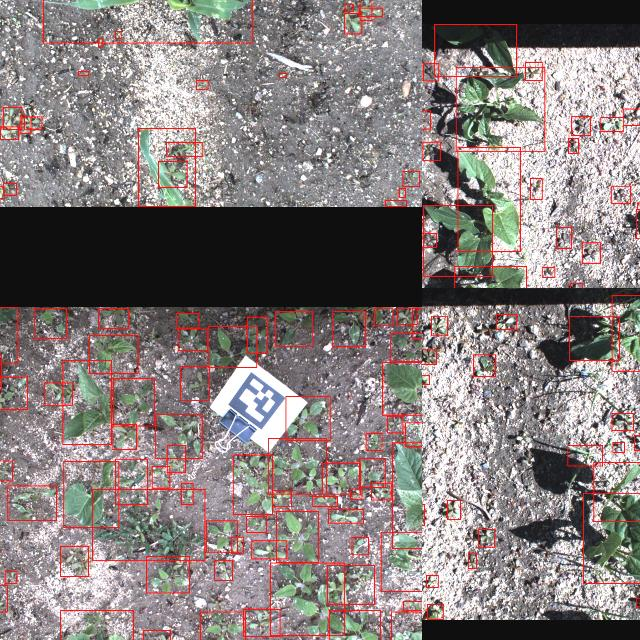crop: (42, 0, 251, 42), (456, 67, 544, 151), (457, 146, 519, 252), (582, 492, 640, 583), (422, 206, 492, 276), (138, 129, 195, 207), (434, 24, 516, 76), (61, 360, 110, 444), (64, 461, 118, 527), (391, 442, 422, 548), (380, 532, 422, 592), (611, 295, 640, 371), (569, 316, 619, 360), (381, 361, 422, 414), (89, 335, 138, 373), (454, 267, 526, 288), (391, 612, 422, 640)
weed: (92, 490, 204, 560), (269, 562, 343, 636), (267, 438, 325, 494), (592, 462, 640, 521), (232, 454, 272, 514), (59, 610, 132, 640), (275, 512, 317, 562), (155, 414, 201, 458), (112, 378, 154, 426), (208, 327, 256, 368), (285, 396, 329, 440), (326, 566, 374, 604), (6, 486, 56, 520), (146, 556, 188, 594), (328, 610, 379, 640), (115, 459, 147, 505), (274, 310, 312, 346), (199, 611, 244, 640), (322, 462, 360, 493), (332, 310, 364, 346), (205, 520, 237, 552), (243, 609, 279, 637), (34, 308, 66, 338), (389, 332, 422, 361), (180, 366, 208, 400), (0, 307, 17, 363), (0, 376, 27, 409), (60, 546, 88, 576), (358, 458, 384, 488), (158, 161, 186, 187), (247, 317, 267, 353), (566, 446, 602, 466), (177, 328, 207, 350), (112, 424, 136, 450), (44, 383, 72, 405), (252, 541, 286, 559), (98, 308, 128, 328), (166, 143, 202, 157), (166, 445, 184, 473), (473, 354, 495, 376), (328, 509, 362, 523), (2, 107, 22, 129), (404, 422, 422, 446), (570, 116, 590, 136), (151, 466, 169, 488), (343, 14, 361, 34), (581, 243, 599, 263), (370, 482, 390, 500), (214, 560, 232, 580), (430, 316, 448, 336), (612, 413, 632, 431), (176, 312, 198, 328), (524, 61, 542, 80), (373, 307, 392, 325), (610, 185, 630, 202), (422, 142, 440, 160), (555, 228, 571, 248), (246, 517, 266, 533), (397, 308, 417, 324), (496, 314, 516, 330), (600, 117, 622, 131), (272, 489, 290, 506), (622, 109, 640, 125), (350, 538, 368, 554), (365, 432, 381, 450), (478, 529, 494, 547), (142, 630, 169, 640), (529, 178, 541, 200), (446, 500, 459, 520), (422, 64, 438, 80), (386, 416, 402, 432), (426, 604, 442, 620), (0, 126, 18, 140), (359, 0, 371, 20), (312, 496, 336, 506), (402, 172, 418, 186), (182, 483, 192, 505), (0, 461, 11, 481), (23, 117, 41, 129), (422, 232, 436, 247), (422, 349, 435, 364), (358, 8, 382, 16), (232, 536, 242, 554), (2, 183, 16, 195), (0, 585, 6, 612), (20, 117, 30, 133), (402, 602, 422, 610), (635, 209, 640, 238), (4, 571, 16, 583), (425, 576, 437, 588), (568, 138, 578, 152), (384, 201, 406, 207), (422, 111, 429, 129), (468, 554, 477, 568), (195, 80, 207, 90), (542, 267, 554, 277), (349, 489, 361, 499), (612, 442, 624, 452), (633, 435, 640, 450), (343, 4, 352, 12), (78, 70, 89, 76), (398, 188, 404, 198), (422, 375, 428, 384), (278, 72, 286, 78), (569, 284, 581, 288), (114, 32, 120, 38), (0, 187, 3, 199), (636, 598, 640, 607), (98, 38, 102, 46), (636, 203, 640, 209)
